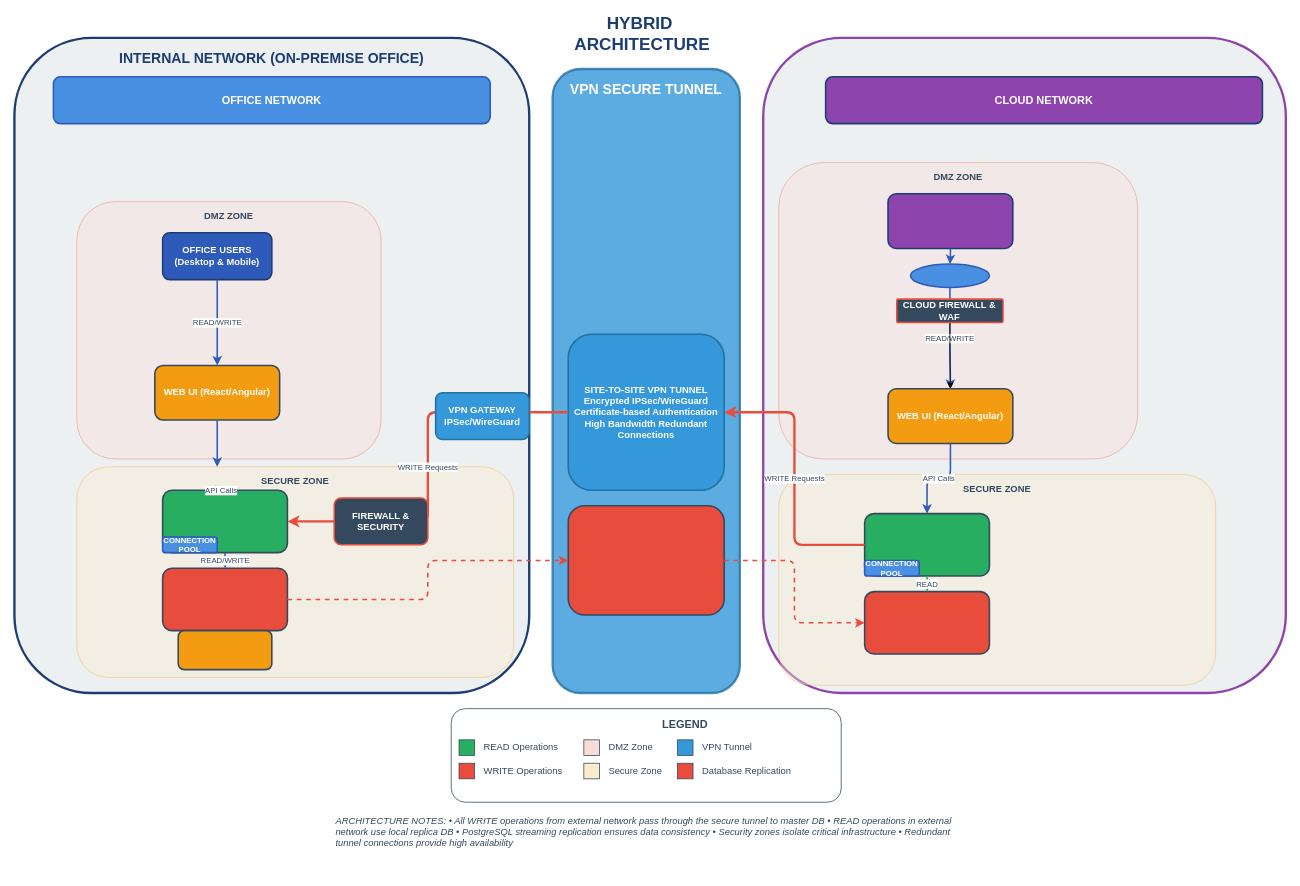
This 1300x886 diagram has some shape labels left out. The box of each missing label's shape, as (x1, y1, x2, y2) in pixels:
EXTERNAL NETWORK (CLOUD): (762, 36, 1287, 694)
EXTERNAL USERS (Desktop & Mobile) Internet: (887, 193, 1013, 249)
INTERNET GATEWAY: (909, 263, 990, 288)
JAVA BACKEND (Cloud) Port: 8080: (863, 512, 990, 576)
JAVA BACKEND (Primary) Port: 8080: (161, 489, 288, 553)
MONITORING & BACKUP: (177, 629, 272, 670)
POSTGRESQL MASTER Port: 5432: (161, 567, 288, 631)
POSTGRESQL REPLICA (READ) Port: 5432: (863, 590, 990, 654)
POSTGRESQL STREAMING REPLICATION Asynchronous Master → Replica Continuous Sync: (567, 505, 725, 615)
